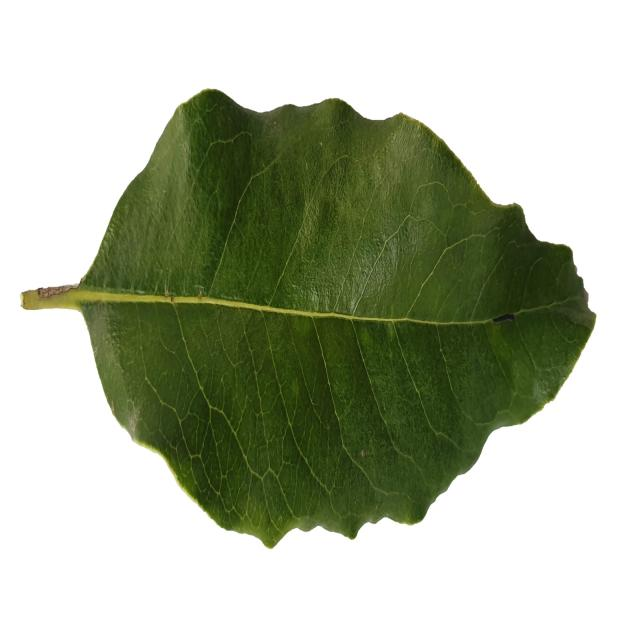Medicinal-Sandalwood: (18, 84, 598, 548)
